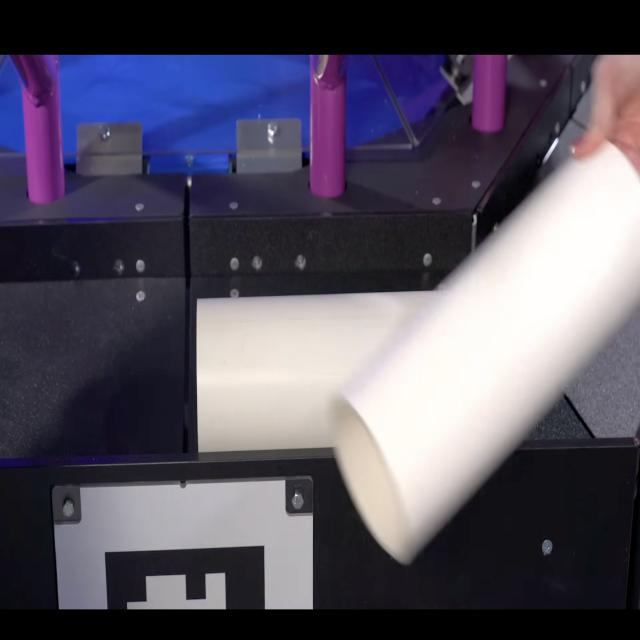coral: (324, 137, 640, 568), (195, 294, 488, 450)
